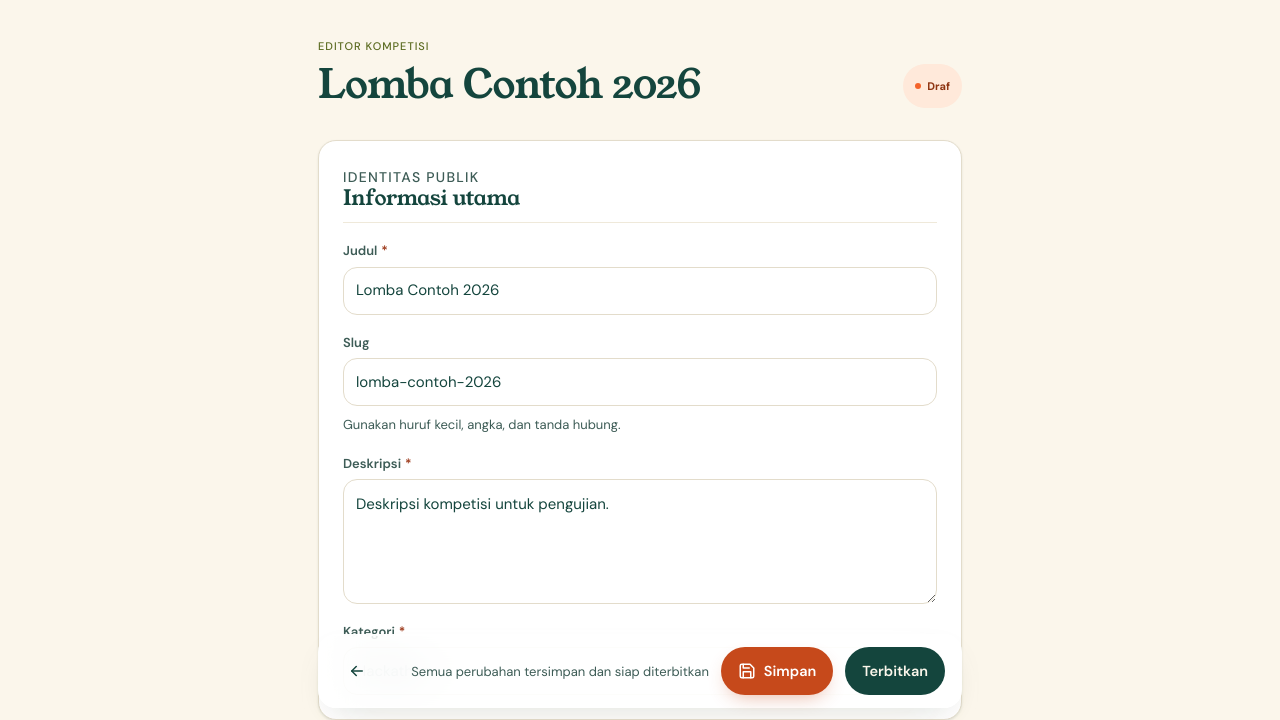
InstitutionCompetitionEditShell publish readiness › translates a session-mismatch refusal instead of relaying the server's English
Expected: the button "Terbitkan" is shown, [845, 647, 945, 695]
Click the button "Simpan": coordinates (777, 671) [721, 647, 833, 695]
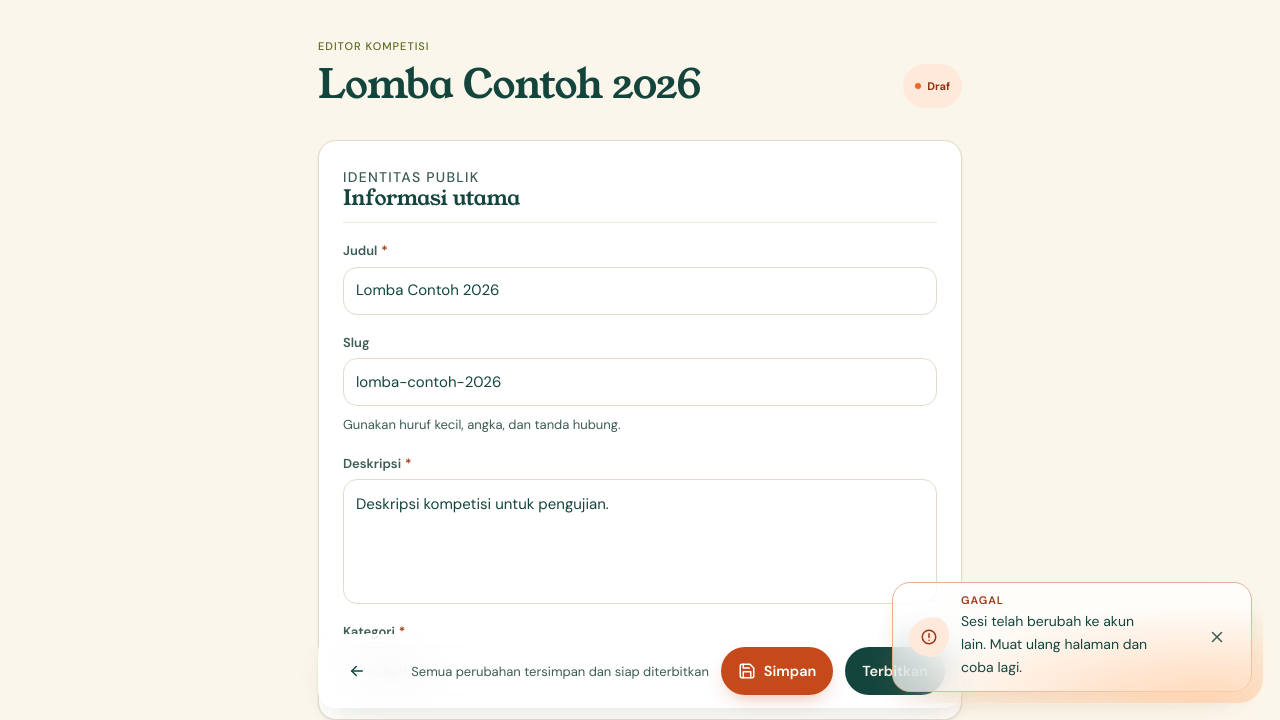
Expected: the text "Sesi telah berubah ke akun lain. Muat ulang halaman dan coba lagi." is shown, [961, 612, 1147, 676]
